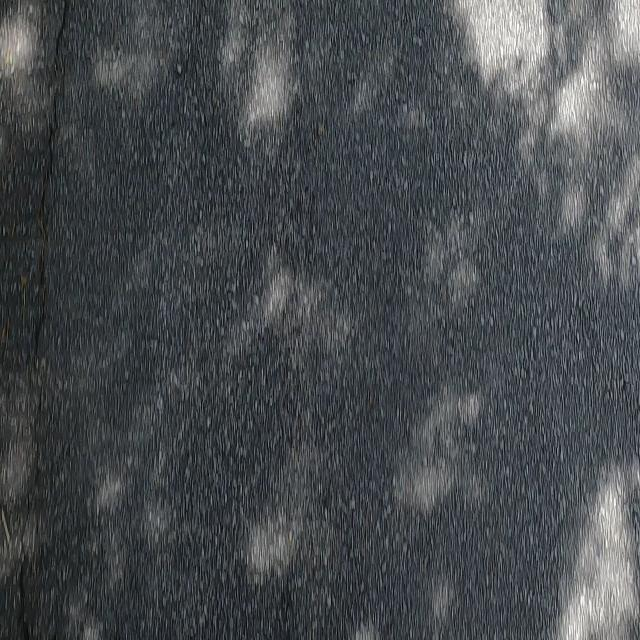Retak-Memanjang: (16, 0, 74, 637)
